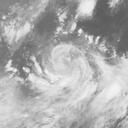cyclone: (40, 42, 97, 101)
